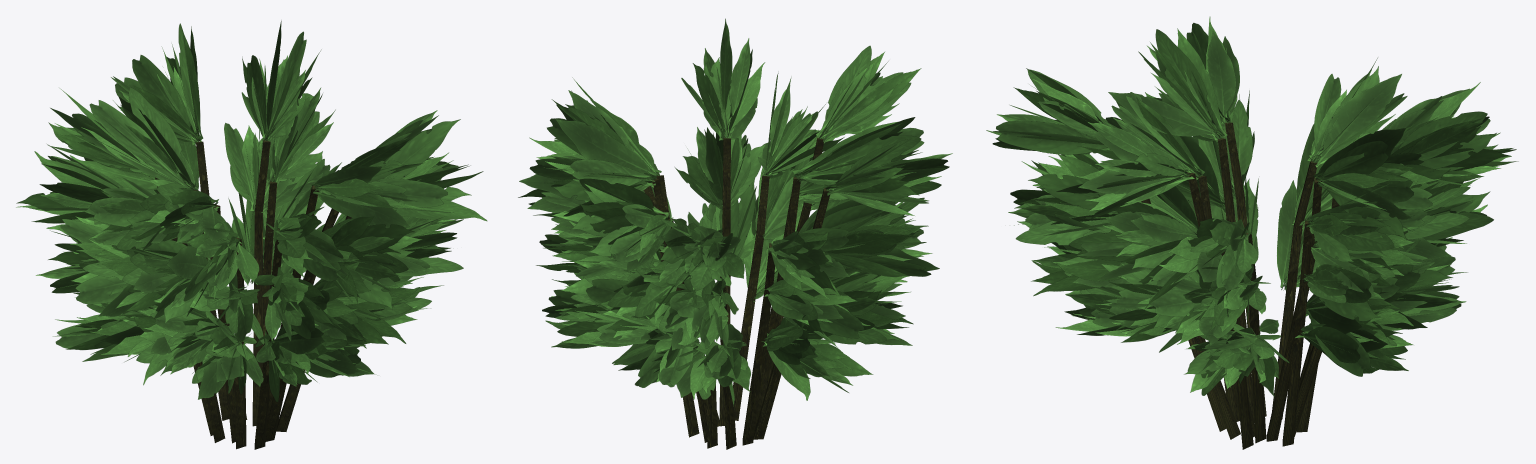
Rendered from understory_ginger_v01_LOD1.glb.
3 views of the same model, side by side, from view 1: azimuth 30°, elevation 25°; view 2: azimuth 150°, elevation 25°; view 3: azimuth 270°, elevation 25° (orthographic). The views are drawn at different scales.
Visible parts, largest first — view 1: understory_ginger_v01_LOD1; view 2: understory_ginger_v01_LOD1; view 3: understory_ginger_v01_LOD1.
Part boxes in pixels (x1,y1,x2,y2): understory_ginger_v01_LOD1: (16, 20, 487, 449); understory_ginger_v01_LOD1: (518, 18, 952, 449); understory_ginger_v01_LOD1: (986, 16, 1518, 449).
Size of the model in its own units: 1.17 by 0.9871 by 1.31.
Materials: 2 (2 with a texture image).
